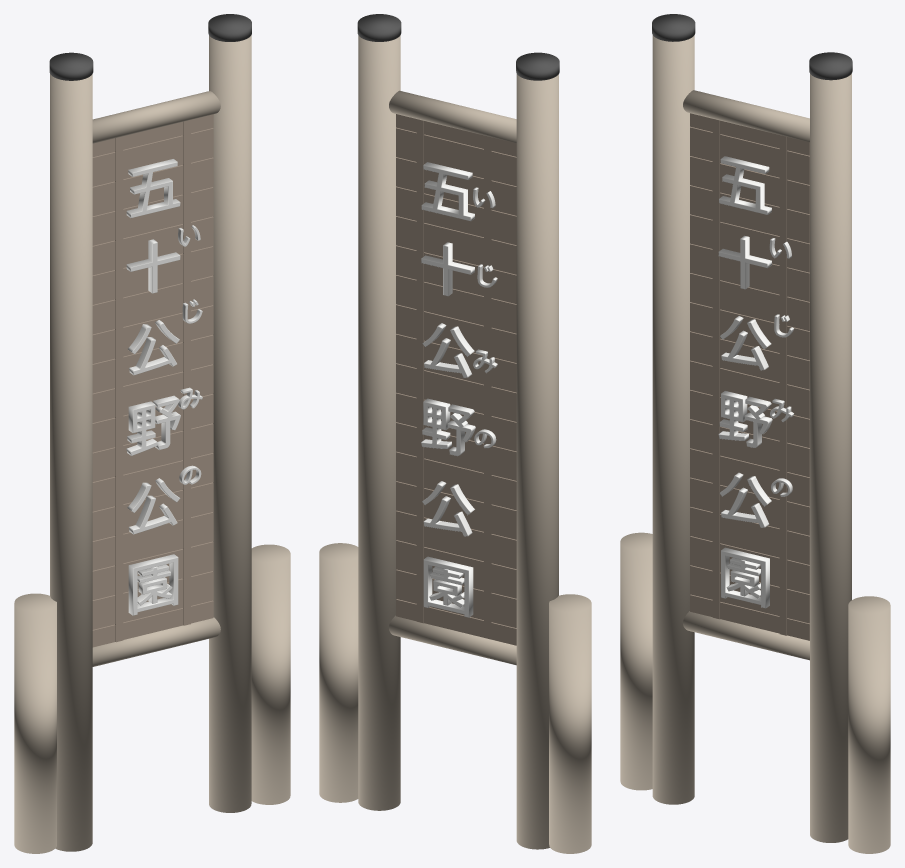
Rendered from ijimino_park.glb.
3 views of the same model, side by side, from view 1: azimuth 30°, elevation 25°; view 2: azimuth 150°, elevation 25°; view 3: azimuth 330°, elevation 25° (orthographic).
Visible parts, largest first — view 1: IJM_Post_L, IJM_Post_R, IJM_Post_R.003, IJM_Post_R.002, IJM_BackSupport_L, IJM_BackSupport_R, IJM_BoardPlank_11, IJM_BoardPlank_03, IJM_TopBar, IJM_BoardPlank_16, IJM_BoardPlank_06, IJM_BoardPlank_13 (+22 smaller); view 2: IJM_Post_L, IJM_Post_R, IJM_Post_R.003, IJM_Post_R.002, IJM_BackSupport_R.001, IJM_BackSupport_L.001, IJM_BoardPlank_11, IJM_BoardPlank_08, IJM_TopBar, IJM_BoardPlank_16, IJM_BoardPlank_13, IJM_BoardPlank_05 (+22 smaller); view 3: IJM_Post_R, IJM_Post_L, IJM_Post_R.002, IJM_Post_R.003, IJM_BackSupport_L, IJM_BackSupport_R, IJM_BoardPlank_11, IJM_BoardPlank_03, IJM_TopBar, IJM_BoardPlank_06, IJM_BoardPlank_16, IJM_BoardPlank_05 (+22 smaller).
Boxes of the visible parts, x1,y1,x2,y2 form: IJM_Post_L: (50,74,92,851); IJM_Post_R: (209,35,251,812); IJM_Post_R.003: (14,593,56,853); IJM_Post_R.002: (251,544,290,804); IJM_BackSupport_L: (115,136,123,642); IJM_BackSupport_R: (183,120,190,625); IJM_BoardPlank_11: (92,275,213,334); IJM_BoardPlank_03: (92,512,213,570); IJM_TopBar: (92,91,220,143); IJM_BoardPlank_16: (92,128,213,186); IJM_BoardPlank_06: (92,423,213,481); IJM_BoardPlank_13: (92,216,213,275); IJM_Post_L: (516,74,558,849); IJM_Post_R: (358,35,400,810); IJM_Post_R.003: (549,594,591,853); IJM_Post_R.002: (319,543,358,802); IJM_BackSupport_R.001: (416,119,424,623); IJM_BackSupport_L.001: (484,135,491,639); IJM_BoardPlank_11: (396,275,516,333); IJM_BoardPlank_08: (396,363,516,421); IJM_TopBar: (389,90,516,143); IJM_BoardPlank_16: (396,128,516,186); IJM_BoardPlank_13: (396,216,516,274); IJM_BoardPlank_05: (396,452,516,510); IJM_Post_R: (810,73,851,842); IJM_Post_L: (652,35,694,804); IJM_Post_R.002: (848,596,890,853); IJM_Post_R.003: (620,532,652,790); IJM_BackSupport_L: (712,119,720,619); IJM_BackSupport_R: (779,135,787,635); IJM_BoardPlank_11: (690,273,809,331); IJM_BoardPlank_03: (690,507,809,564); IJM_TopBar: (683,90,809,142); IJM_BoardPlank_06: (690,419,809,477); IJM_BoardPlank_16: (690,127,809,184); IJM_BoardPlank_05: (690,448,809,506).
Bounding box in the file's own units: 2.62 × 7.29 × 0.3915.
